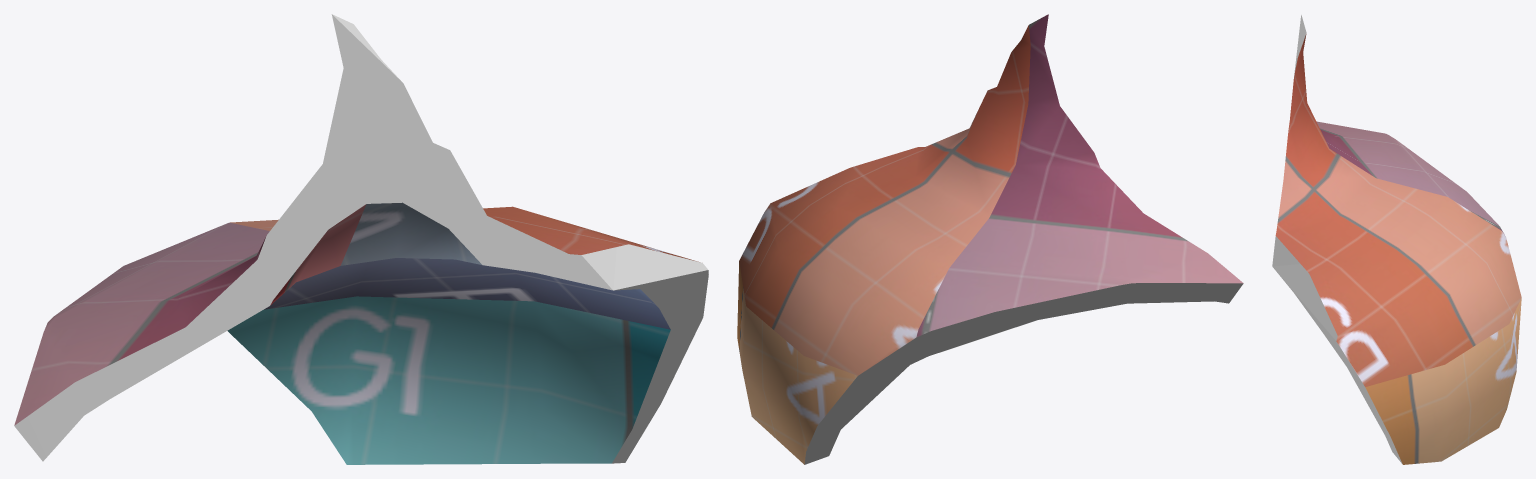
Rendered from MediumVase_SHAT_cell_011.fbx.
The picture shows the model from 3 angles, left to right: view 1: azimuth 30°, elevation 25°; view 2: azimuth 150°, elevation 25°; view 3: azimuth 270°, elevation 25°; orthographic projection. The views are drawn at different scales.
Parts seen in each view (by area): view 1: MediumVase_SHAT_cell_011; view 2: MediumVase_SHAT_cell_011; view 3: MediumVase_SHAT_cell_011.
Boxes of the visible parts, box(x1,y1,x2,y2) form: MediumVase_SHAT_cell_011: box(14, 14, 708, 464); MediumVase_SHAT_cell_011: box(737, 14, 1243, 464); MediumVase_SHAT_cell_011: box(1272, 15, 1521, 464).
Size of the model in its own units: 0.8851 by 0.719 by 0.4562.
2 materials, 1 textured.
